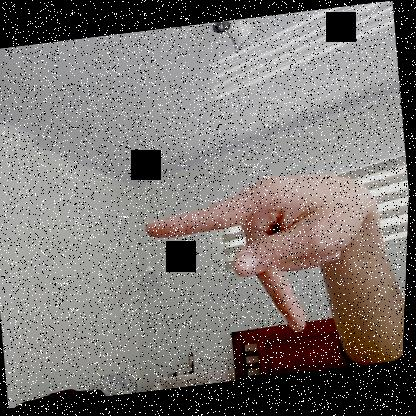P: (136, 162, 388, 350)
